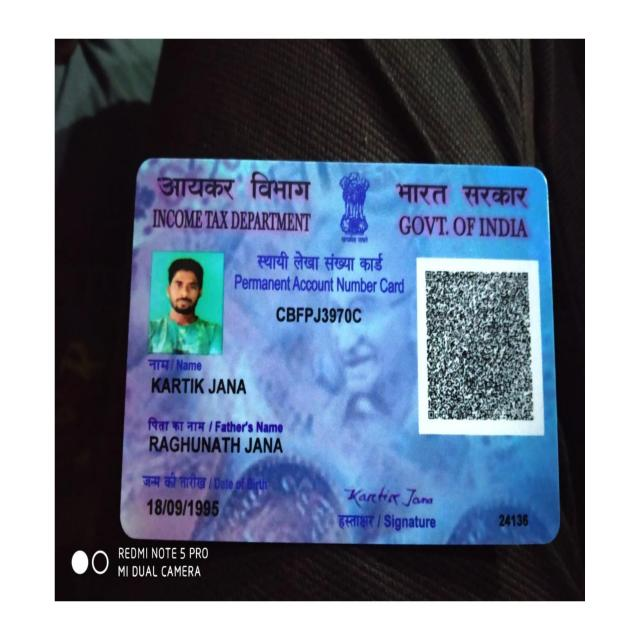pan_card: (126, 166, 553, 537)
